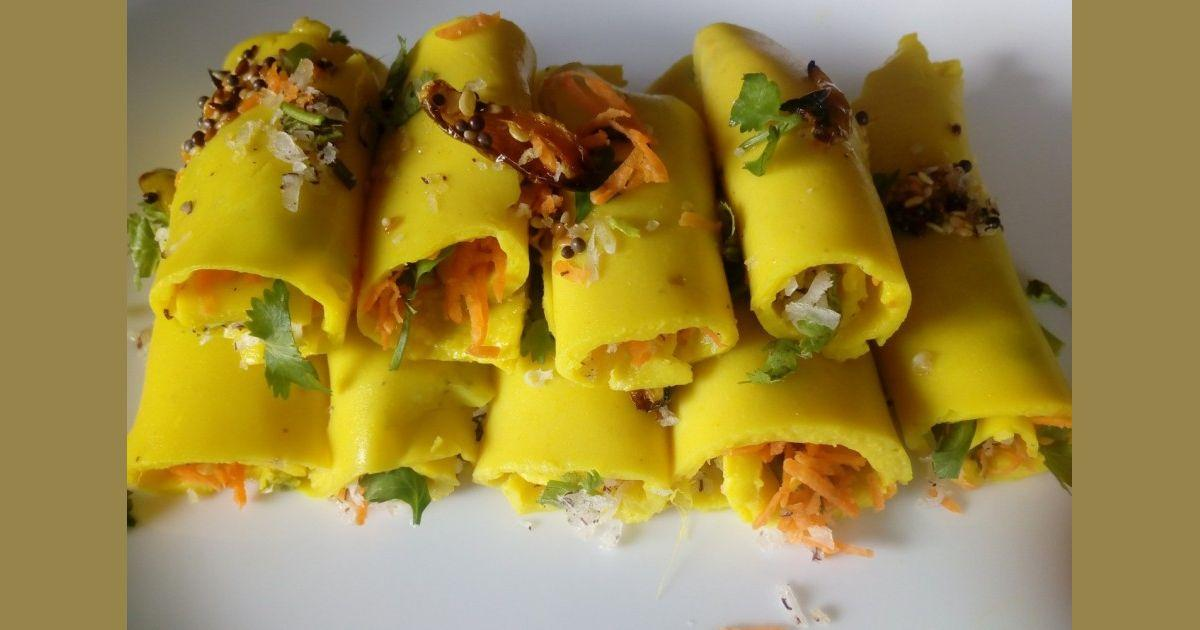khandvi: (130, 15, 1075, 522)
